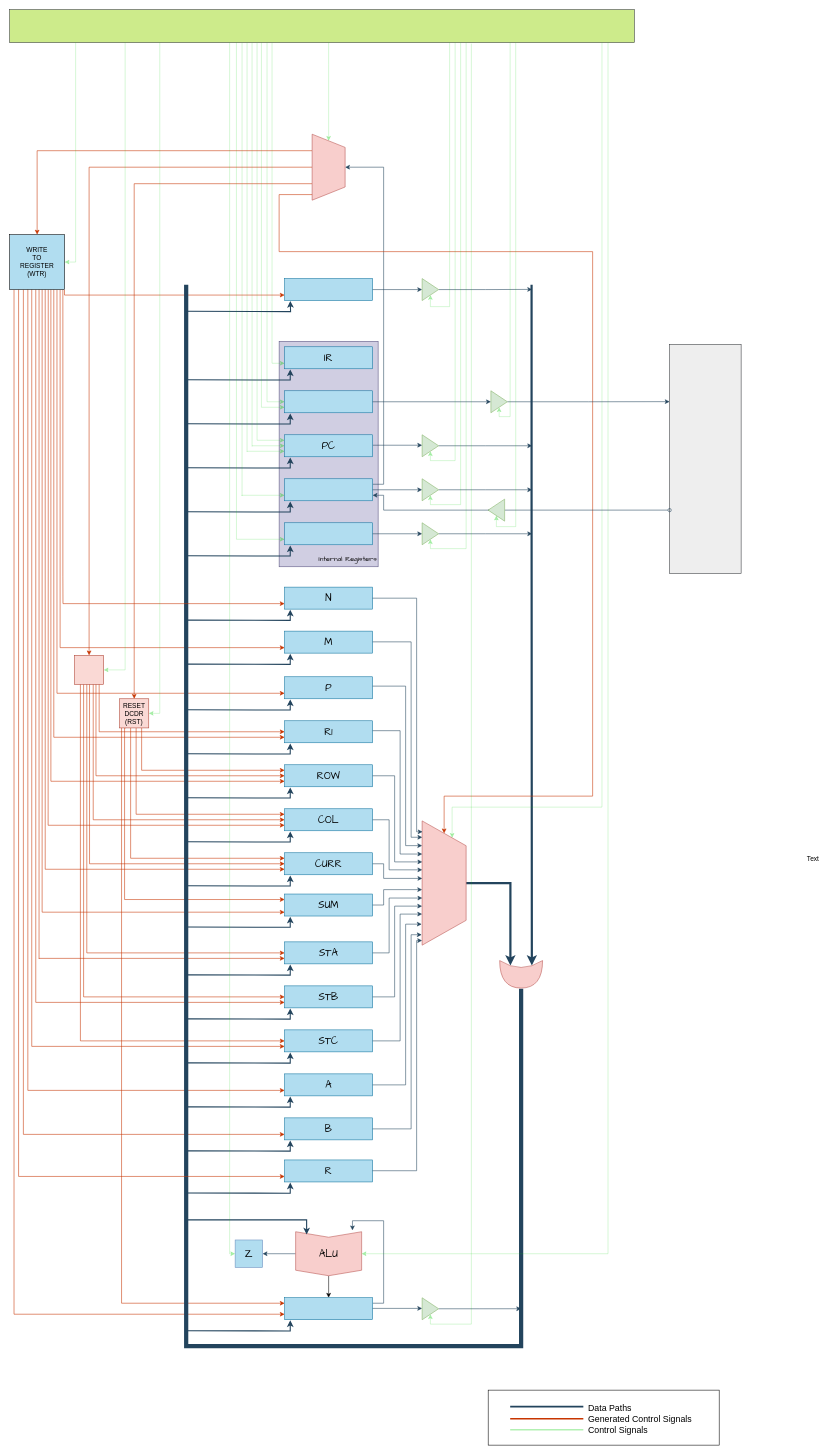
This 838x1455 diagram has some shape labels left out. Each missing label, with the box of its shape:
AC: (284, 1297, 373, 1320)
AR: (284, 390, 373, 413)
CONTROL UNIT: (9, 9, 634, 43)
CoreID: (284, 278, 373, 301)
DR: (284, 478, 373, 501)
INC DCDR (INC): (74, 655, 104, 684)
MEMORY: (669, 344, 741, 574)
OPR DCDR Selector: (312, 134, 345, 200)
TR: (284, 522, 373, 545)
WRITE TO A BUS (WTA): (422, 820, 466, 945)
